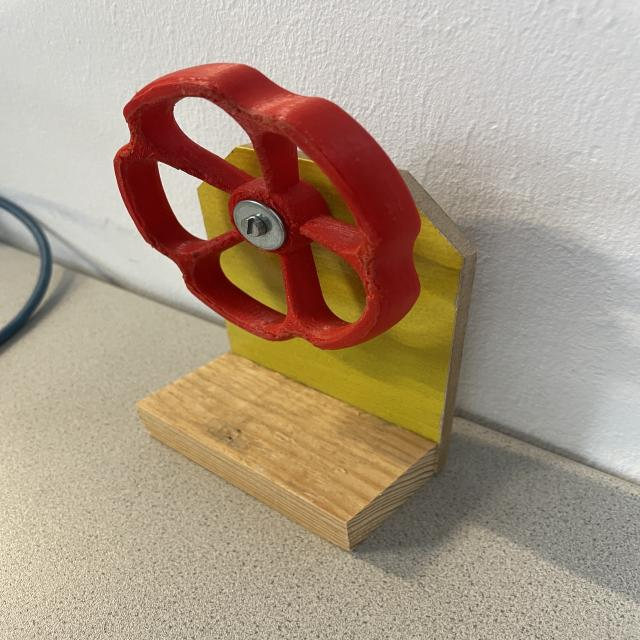Wheel Handle Valve Threaded: (101, 59, 426, 355)
